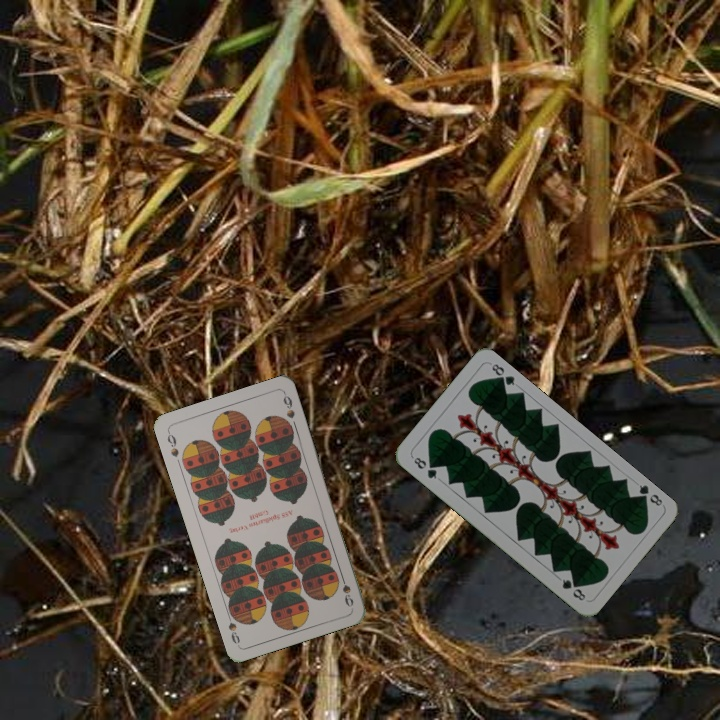G8: (633, 480, 665, 509), (410, 453, 440, 482)
S9: (336, 569, 356, 610), (163, 427, 181, 460)
